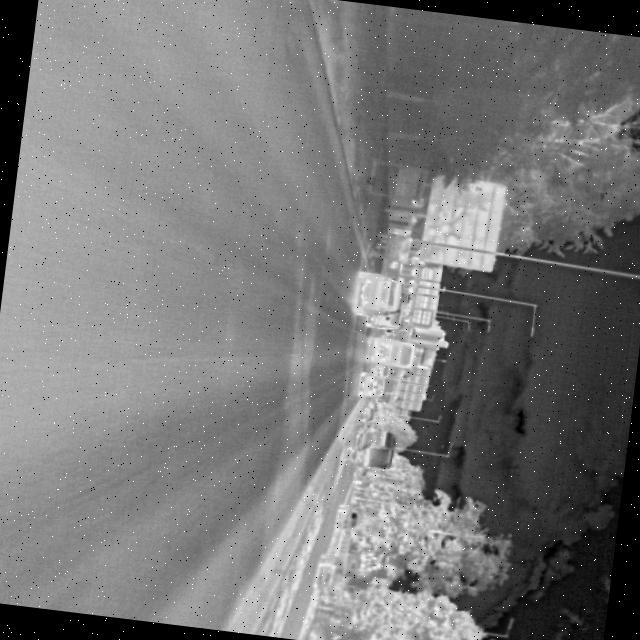Vehicle: (349, 268, 406, 322), (361, 333, 418, 369), (355, 370, 388, 400)
